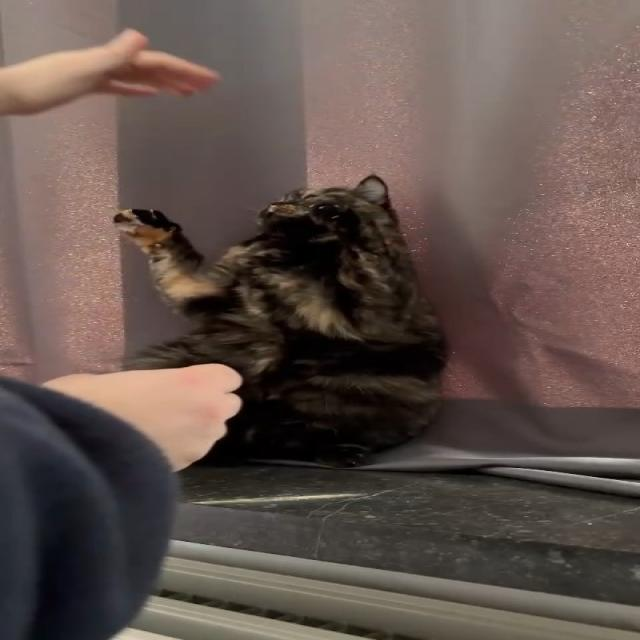authorized: (111, 173, 448, 469)
